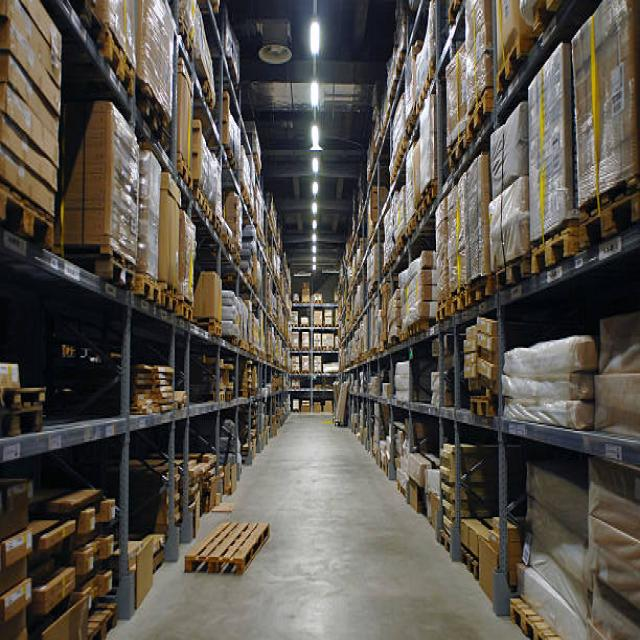Wooden-Pallets: (182, 514, 276, 575), (525, 221, 571, 280), (492, 26, 524, 99), (465, 386, 496, 432), (137, 271, 168, 310)
